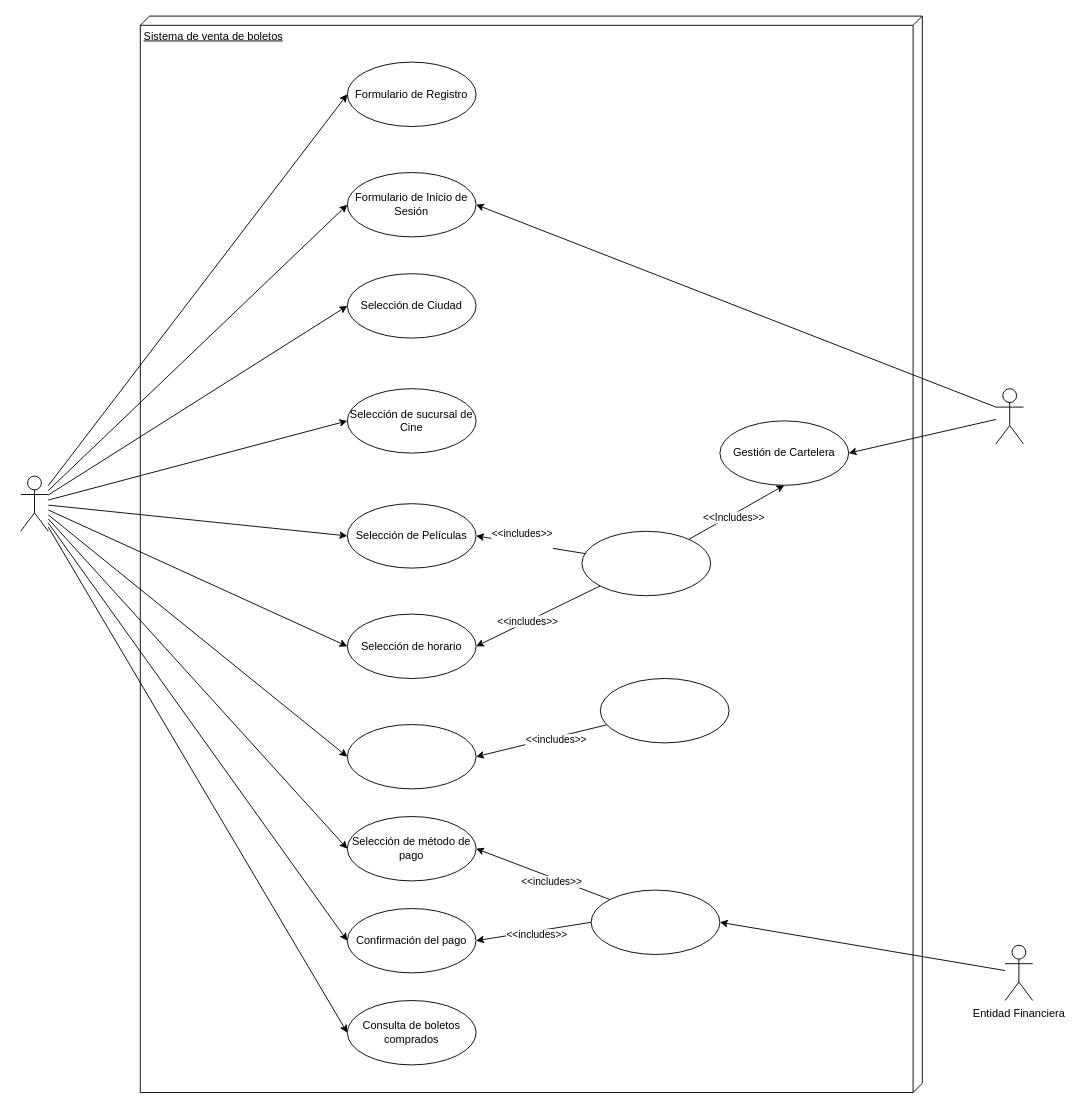
This 1081x1109 diagram has some shape labels left out. The box of each missing label's shape, as (x1, y1, x2, y2) in pixels:
Administrador: (995, 388, 1024, 444)
Selección de asiento: (346, 724, 476, 789)
Usuario: (20, 475, 48, 531)
Validación de la cartelera disponible: (581, 530, 711, 596)
Validación del cobro: (590, 889, 720, 954)
Validación del estado del asiento: (599, 678, 729, 743)
